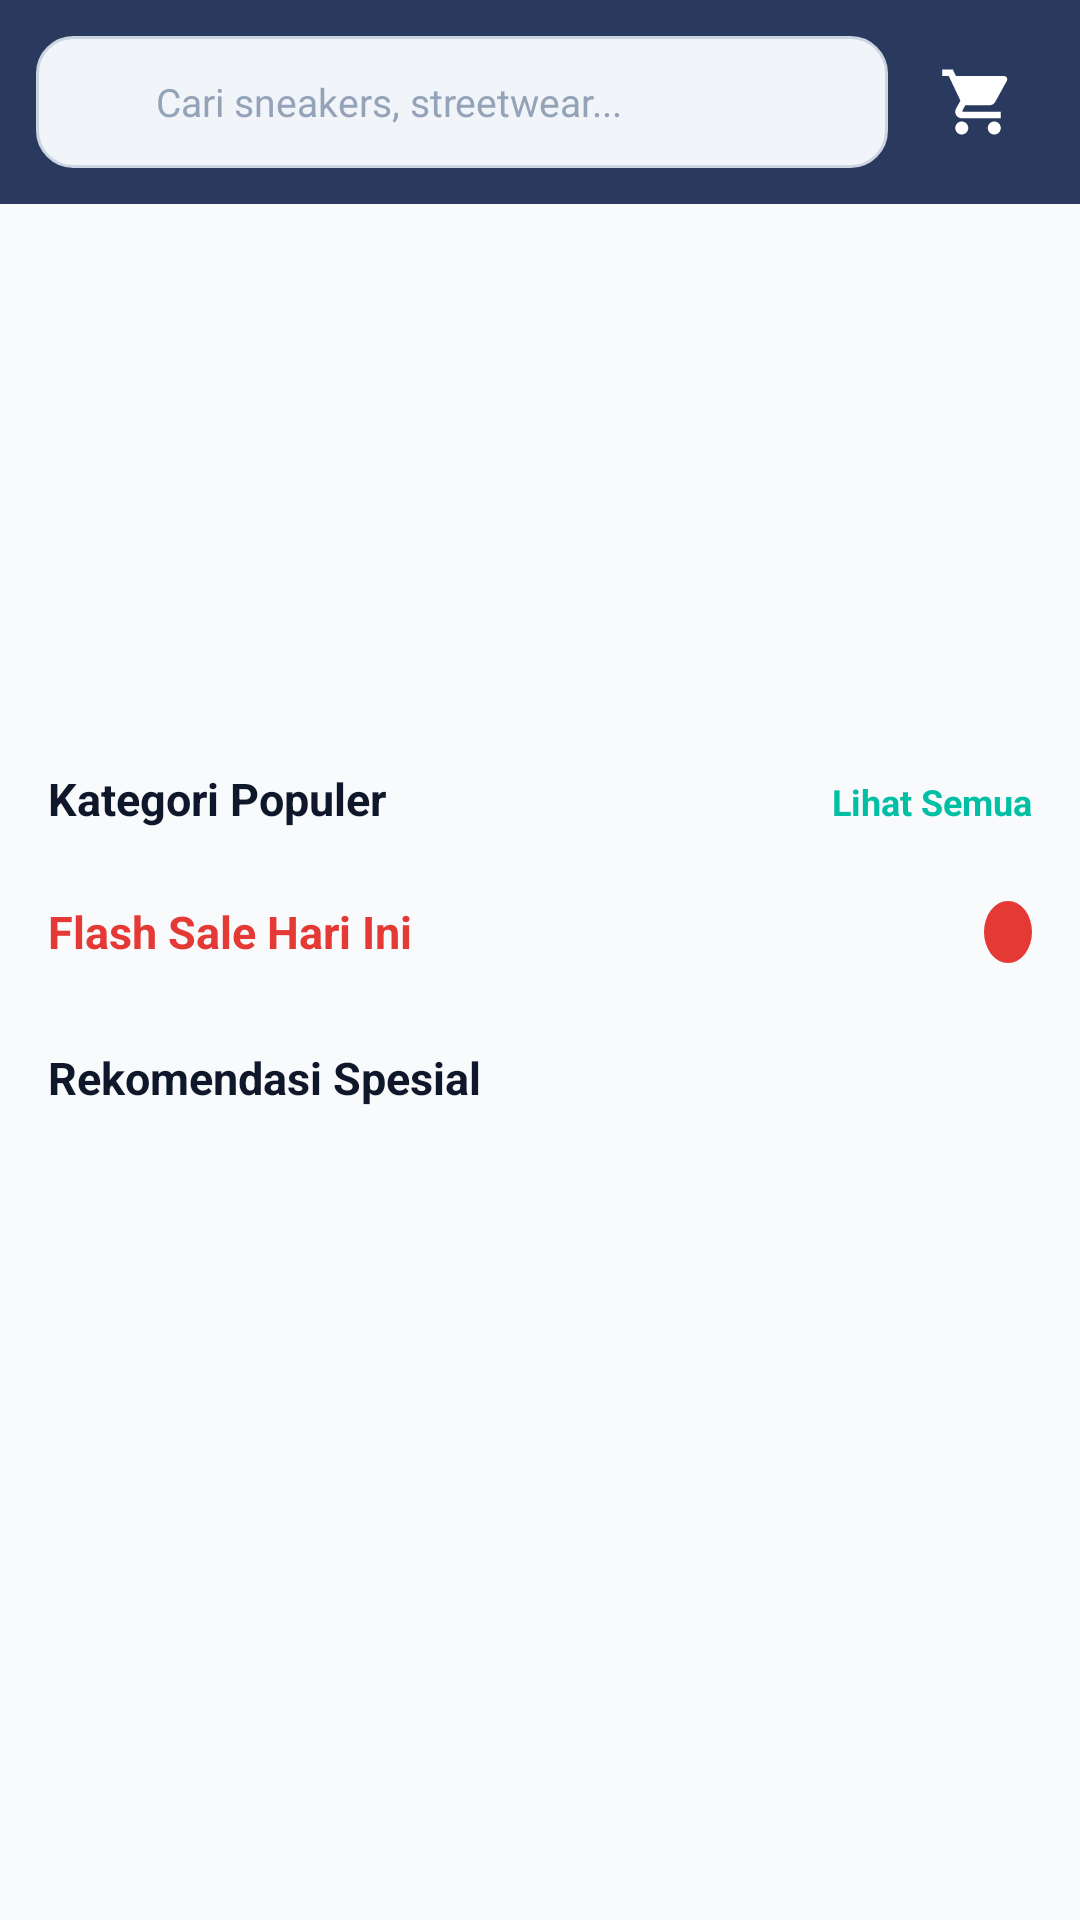

Icon bounding boxes for this 1080w x 1920h phone screenshot, format (x1, y1, x2, y2):
Cart: (942, 69, 1008, 135)
